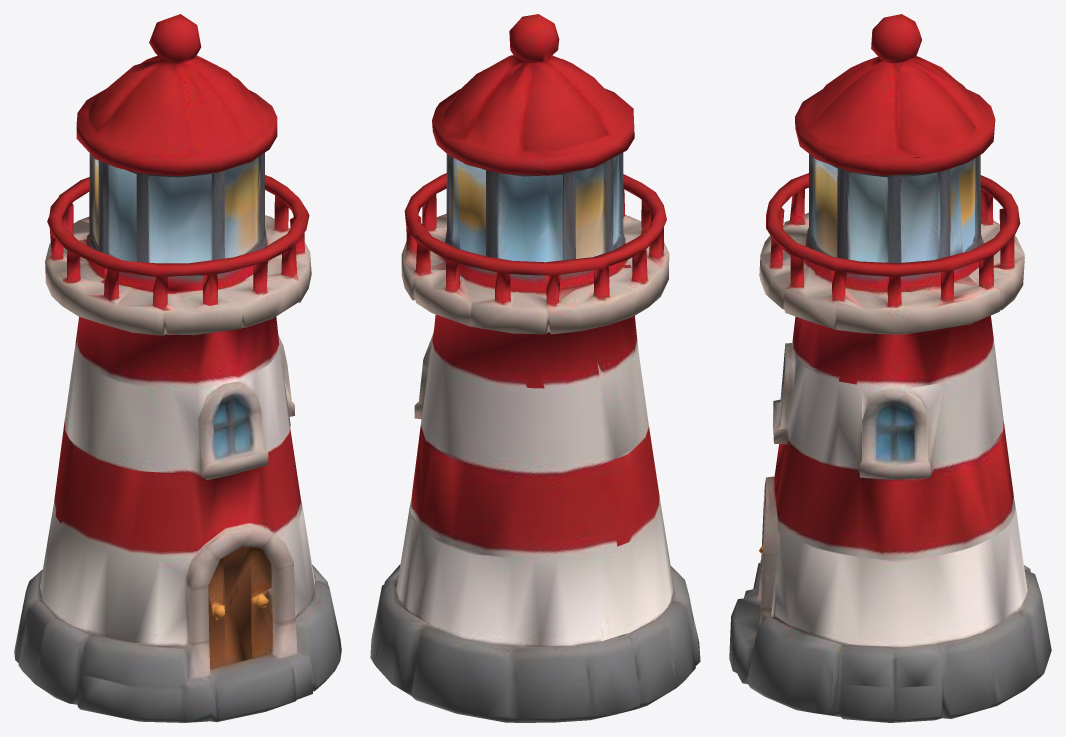
Rendered from lighthouse.glb.
The picture shows the model from 3 angles, left to right: view 1: azimuth 30°, elevation 25°; view 2: azimuth 150°, elevation 25°; view 3: azimuth 270°, elevation 25°; orthographic projection.
Visible parts, largest first — view 1: model; view 2: model; view 3: model.
Part boxes in pixels (left/top/right/bottom): model: left=14, top=14, right=341, bottom=722; model: left=370, top=14, right=700, bottom=722; model: left=729, top=14, right=1051, bottom=722.
Bounding box in the file's own units: 0.8791 × 1.89 × 0.8652.
1 material, 1 textured.
